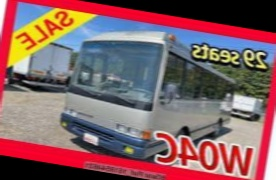bus: (52, 16, 242, 173)
